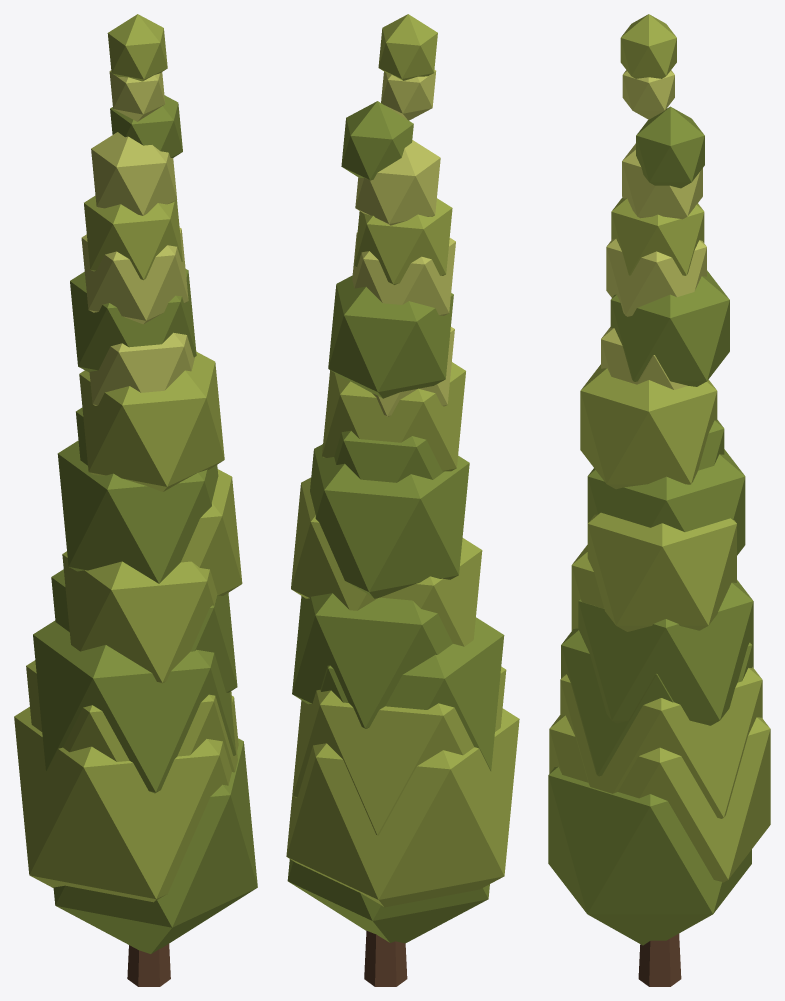
Rendered from tree_poplar.glb.
3 renders of one model, left to right at view 1: azimuth 30°, elevation 25°; view 2: azimuth 150°, elevation 25°; view 3: azimuth 270°, elevation 25°, orthographic.
Visible parts, largest first — view 1: tree_poplar; view 2: tree_poplar; view 3: tree_poplar.
Boxes of the visible parts, box(x1,y1,x2,y2) form: tree_poplar: box(14, 14, 257, 986); tree_poplar: box(286, 14, 519, 986); tree_poplar: box(548, 14, 770, 986).
Size of the model in its own units: 1.78 by 7.9 by 1.66.
